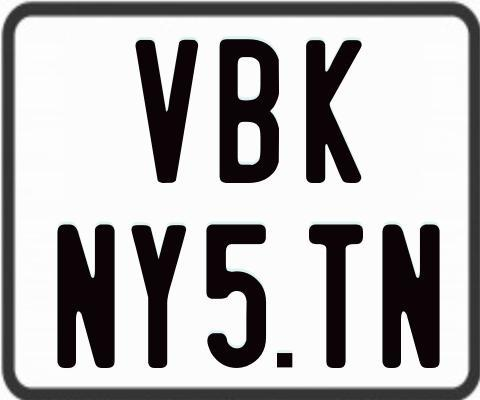5: (206, 222, 271, 371)
B: (219, 37, 278, 183)
K: (304, 40, 364, 186)
N: (57, 222, 121, 366), (382, 221, 445, 366)
T: (309, 224, 367, 374)
V: (135, 37, 198, 185)
Y: (129, 223, 188, 370)
